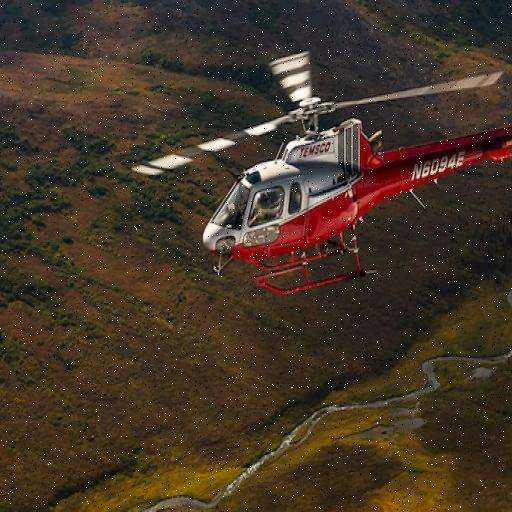helicopter: (134, 44, 512, 297)
